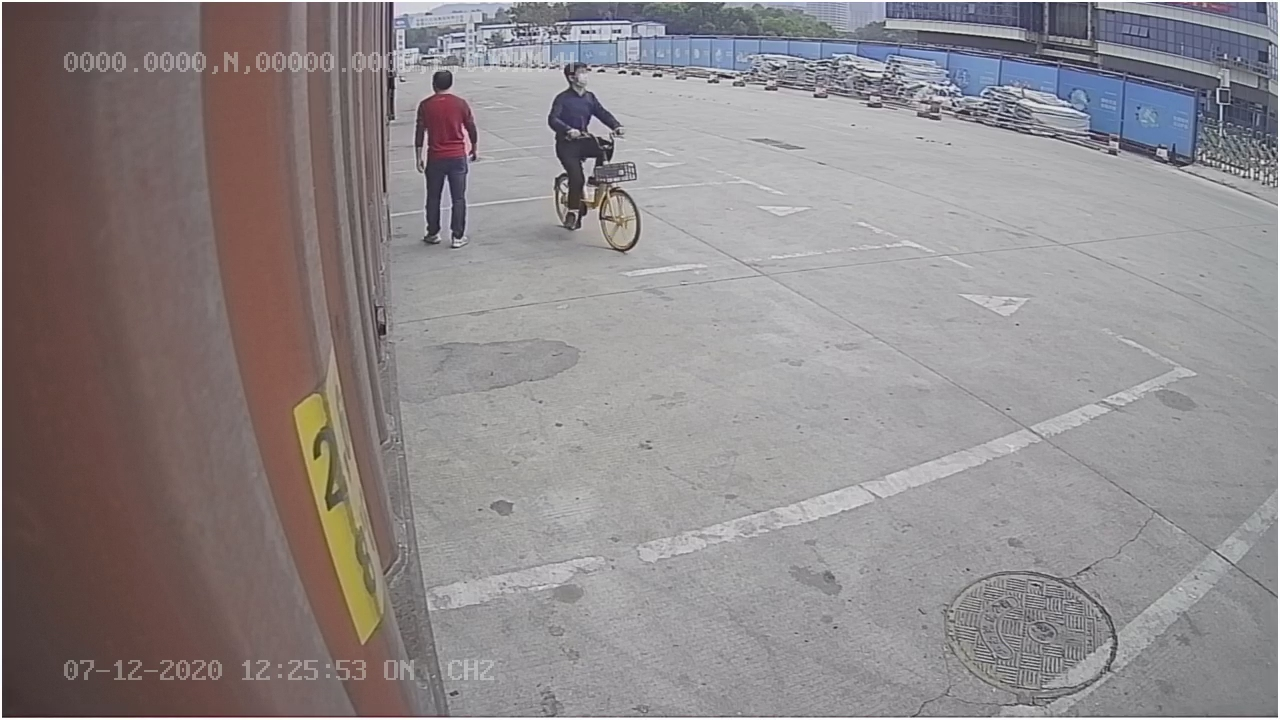person: (411, 67, 481, 251)
